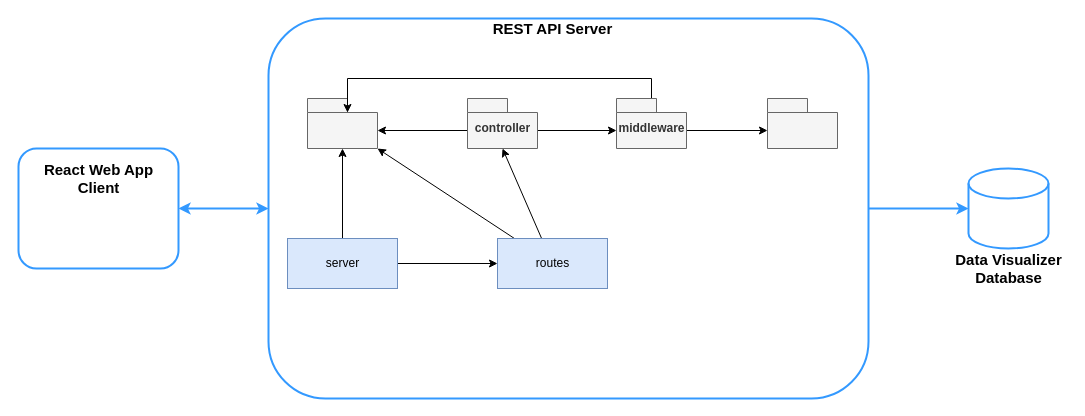
This 1085x416 diagram has some shape labels left out. Here are the shapes that lost their labels. From the top down, the centre of each, then its label:
At pixel 342 123: "config".
At pixel 802 123: "interfaces".
